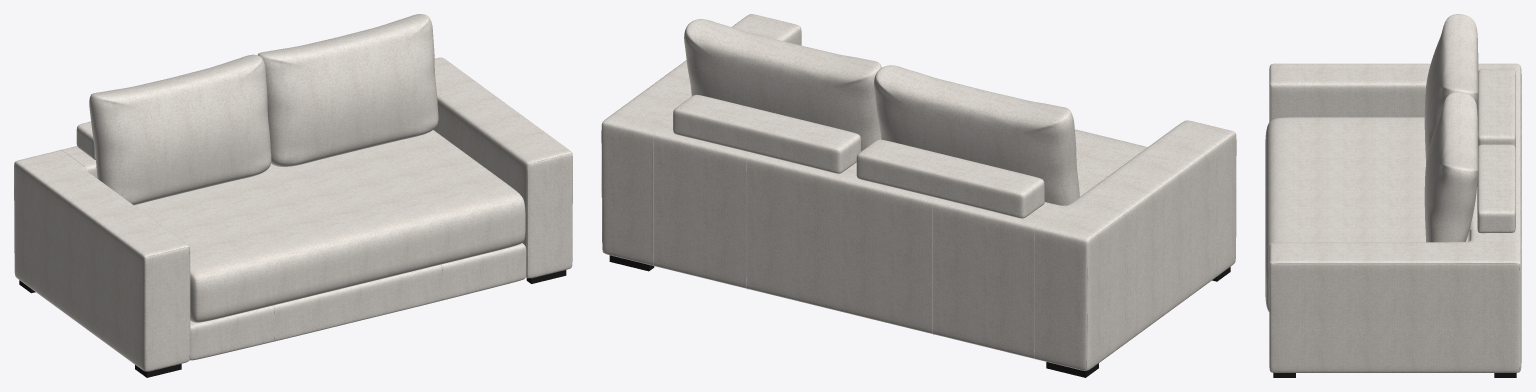
File: 2arm2seats.glb
3 views of the same model, side by side, from view 1: azimuth 30°, elevation 25°; view 2: azimuth 150°, elevation 25°; view 3: azimuth 270°, elevation 25° (orthographic). The views are drawn at different scales.
Parts seen in each view (by area): view 1: object 9, object 17, Alm. da costa (×2), object 18, apoio de costa; view 2: object 17, Alm. da costa (×2), apoio de costa (×2), object 9; view 3: object 17, object 9, Alm. da costa (×2), apoio de costa (×2), D=~ 0,00 m.
Part boxes in pixels (x1,y1,x2,y2): object 9: (134, 130, 525, 322); object 17: (14, 57, 572, 371); Alm. da costa (×2): (89, 14, 438, 205); object 18: (190, 243, 526, 360); apoio de costa: (76, 121, 95, 159); object 17: (601, 14, 1236, 370); Alm. da costa (×2): (684, 19, 1079, 205); apoio de costa (×2): (673, 94, 1044, 218); object 9: (1074, 129, 1147, 196); object 17: (1269, 63, 1521, 372); object 9: (1265, 117, 1469, 311); Alm. da costa (×2): (1424, 14, 1478, 242); apoio de costa (×2): (1469, 69, 1515, 233); D=~ 0,00 m: (1270, 243, 1520, 371).
Bounding box in the file's own units: 2.1 × 0.934 × 1.14.
2 materials, 1 textured.
